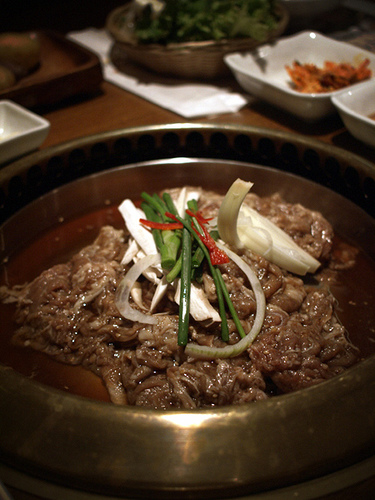bulgogi: (27, 247, 348, 394)
